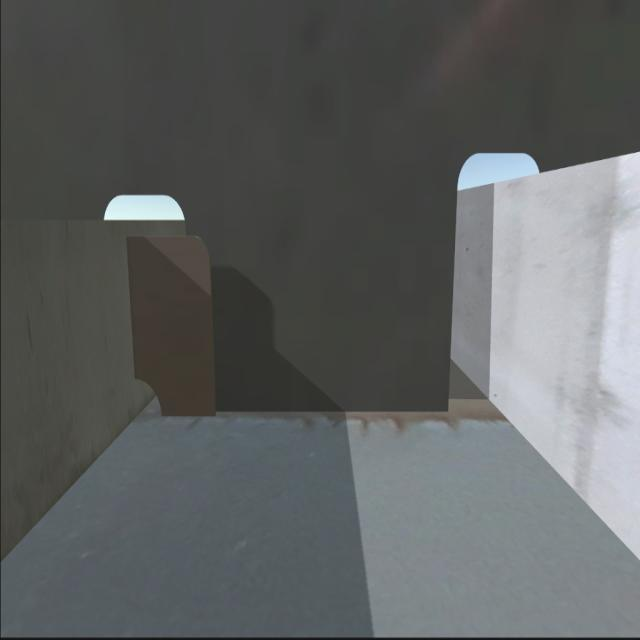fillet_hole: (134, 372, 164, 421)
fillet_yong_jeop_jang: (157, 406, 451, 424)
longi_yong_jeop_jang: (122, 239, 142, 379)
plate_CP05: (125, 232, 221, 418)
